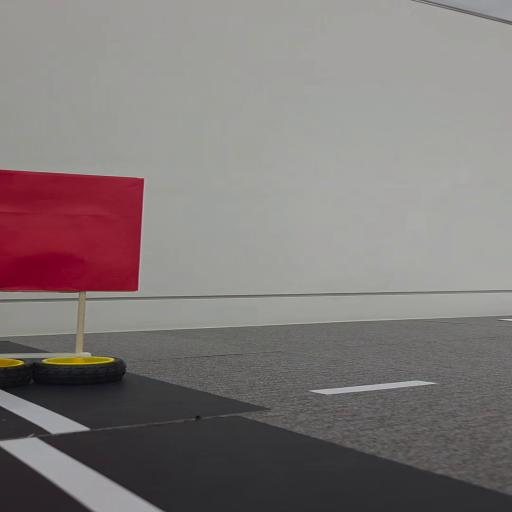Sign_A: (6, 166, 172, 390)
